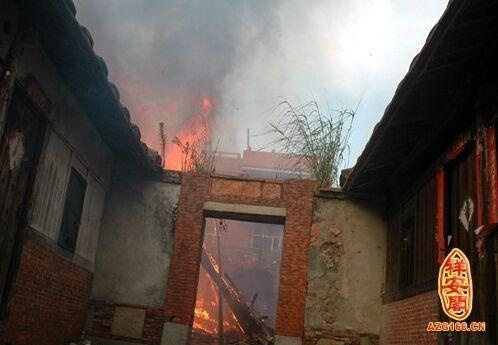fire: (159, 97, 215, 171)
